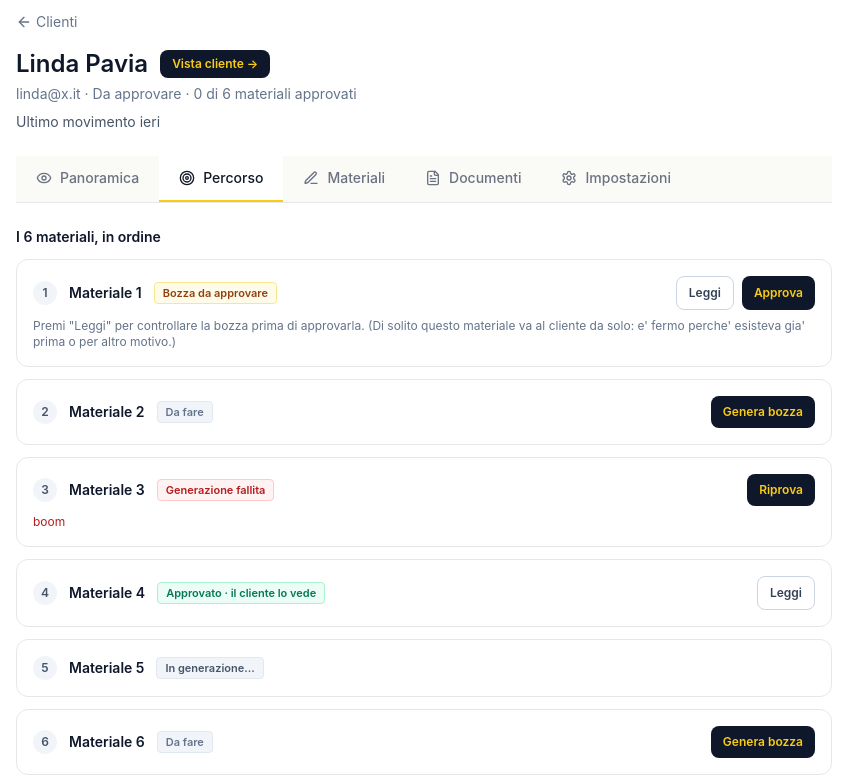
Test: scheda: approvare chiama l'endpoint del solo materiale e mostra l'esito subito
What coordinates should you click on to do the following:
click the button "Approva"
I would click on:
 (778, 293)
Its box is x1=742 y1=276 x2=815 y2=310.
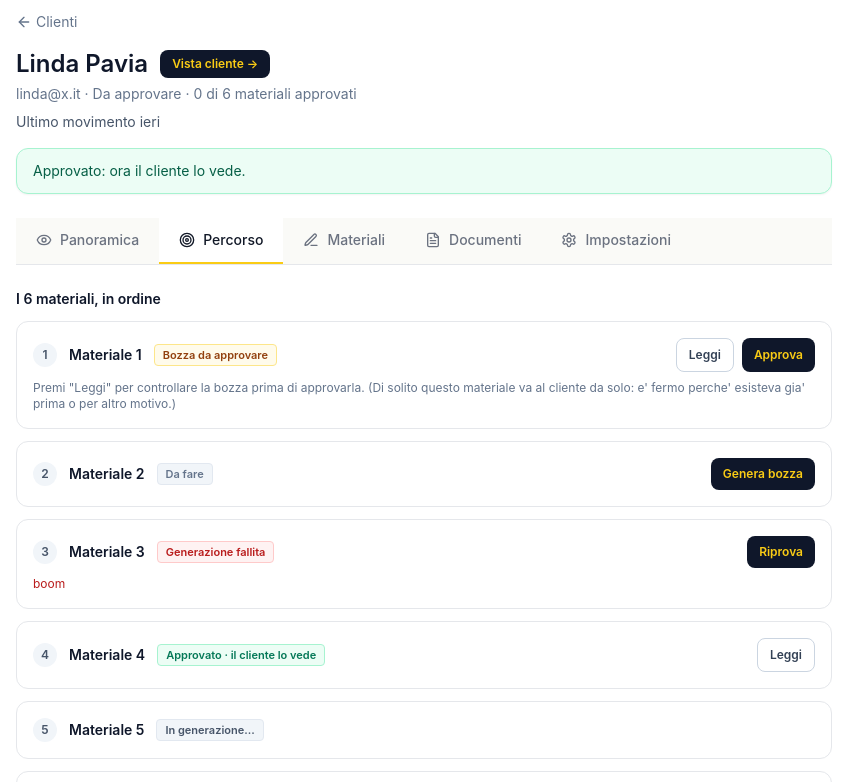
Now the message reads "Approvato: ora il cliente lo vede.", box x1=33 y1=162 x2=246 y2=179
